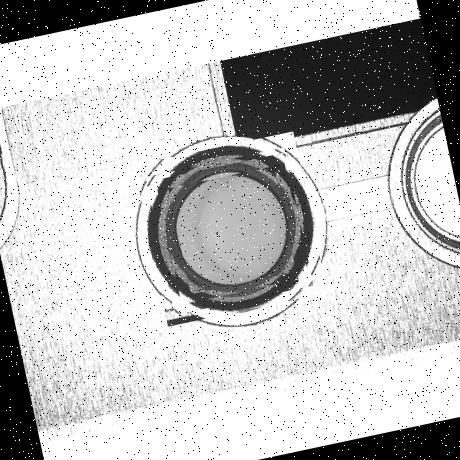Hole: (132, 130, 328, 328)
Hole2: (144, 146, 314, 316)
Hole3: (155, 152, 308, 305)
Hole4: (168, 166, 296, 294)
